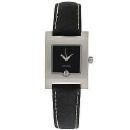watch: (36, 27, 95, 93)
